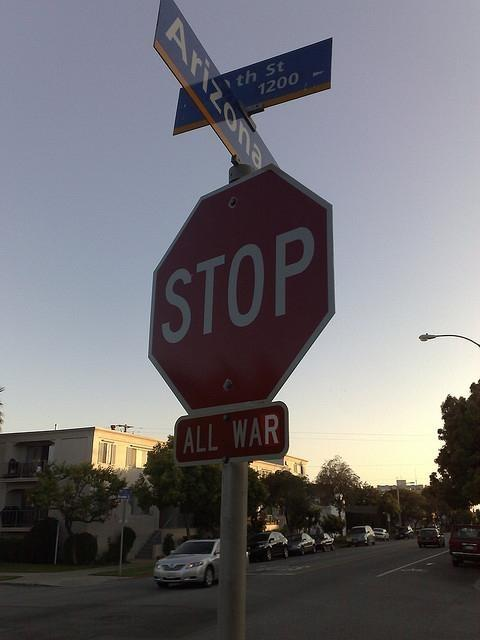car: (153, 538, 252, 590), (449, 524, 480, 568), (250, 532, 288, 560), (287, 534, 316, 556), (346, 526, 376, 547), (417, 528, 445, 548), (311, 533, 335, 552), (394, 525, 414, 540), (372, 528, 390, 542)
